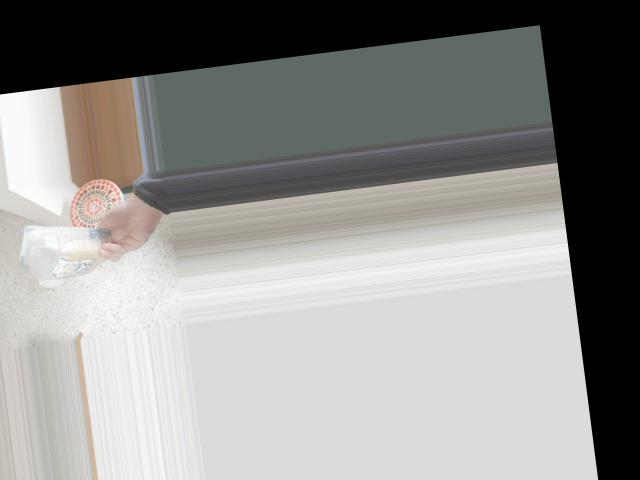cheese: (13, 220, 113, 283)
